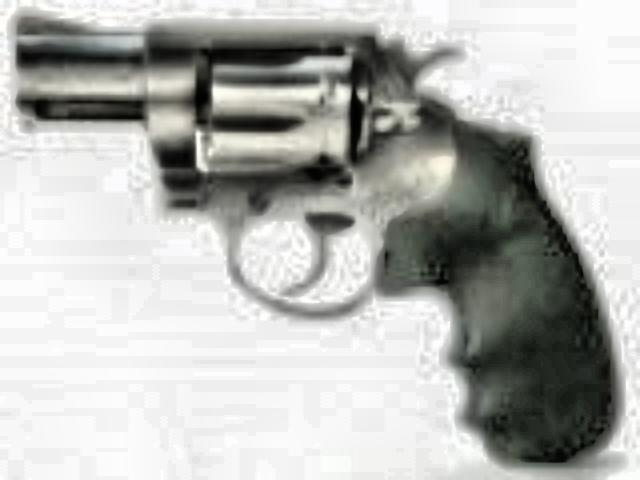pistol: (8, 8, 620, 468)
